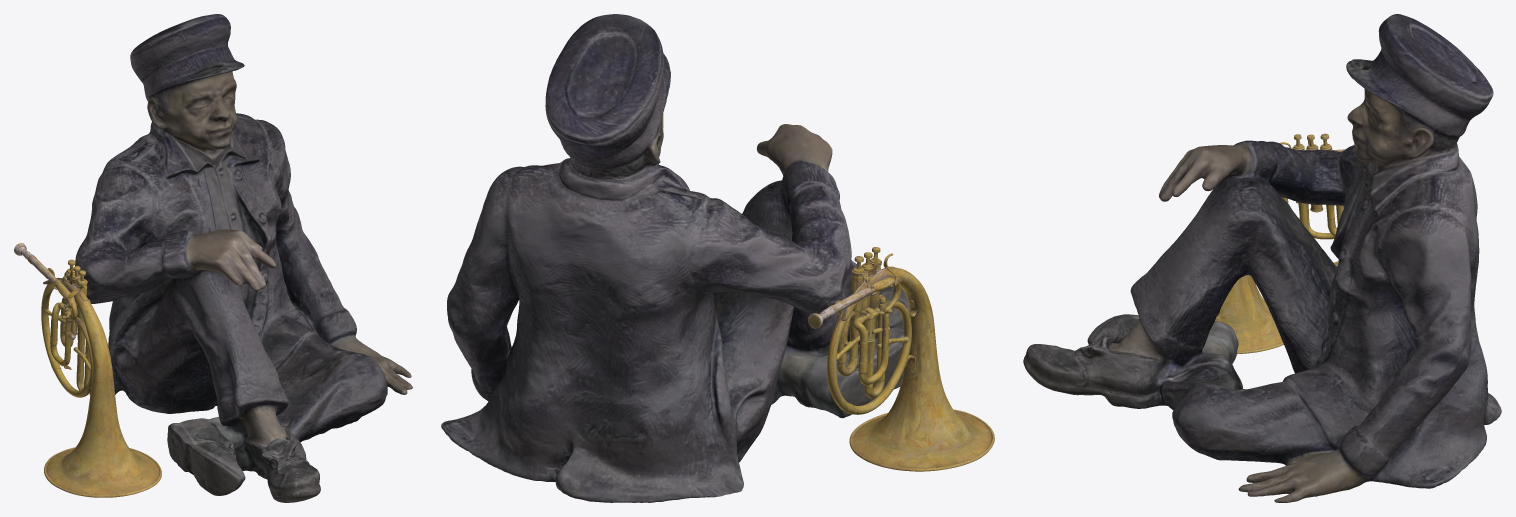
Rendered from khanna-seated-bandsman-with-horn.glb.
The picture shows the model from 3 angles, left to right: view 1: azimuth 30°, elevation 25°; view 2: azimuth 150°, elevation 25°; view 3: azimuth 270°, elevation 25°; orthographic projection. The views are drawn at different scales.
Visible parts, largest first — view 1: 12_Krishna_Khanna_For_Editng_Subs, mesh1; view 2: 12_Krishna_Khanna_For_Editng_Subs, mesh1; view 3: 12_Krishna_Khanna_For_Editng_Subs, mesh1.
Part boxes in pixels (box(x1,y1,x2,y2)): 12_Krishna_Khanna_For_Editng_Subs: box(75, 14, 412, 502); mesh1: box(14, 243, 161, 497); 12_Krishna_Khanna_For_Editng_Subs: box(441, 14, 909, 502); mesh1: box(808, 247, 994, 471); 12_Krishna_Khanna_For_Editng_Subs: box(1023, 14, 1501, 502); mesh1: box(1215, 133, 1344, 354).
Size of the model in its own units: 7.06 by 6.4 by 6.97.
2 materials, 2 textured.
